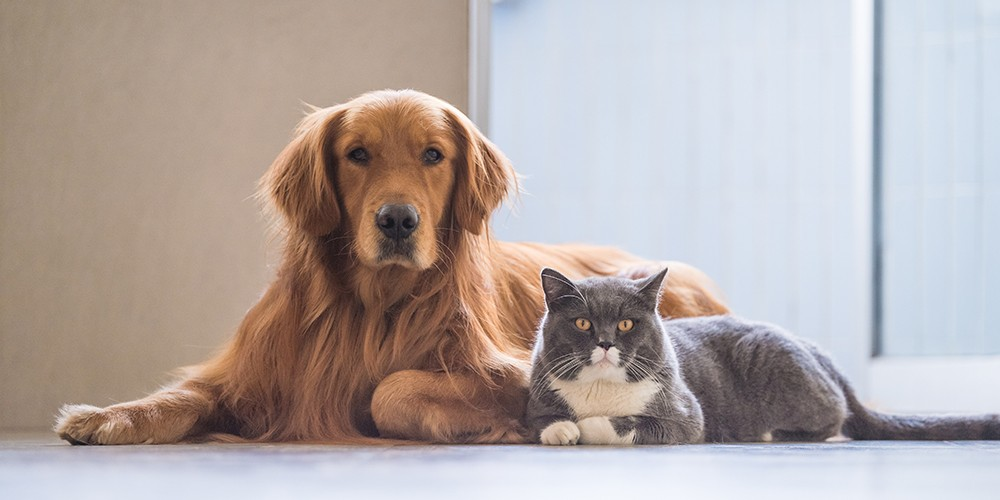cat: (538, 261, 992, 462)
dog: (46, 63, 531, 455)
